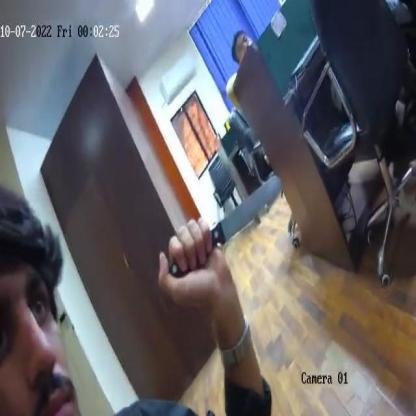Knife: (156, 172, 280, 301)
